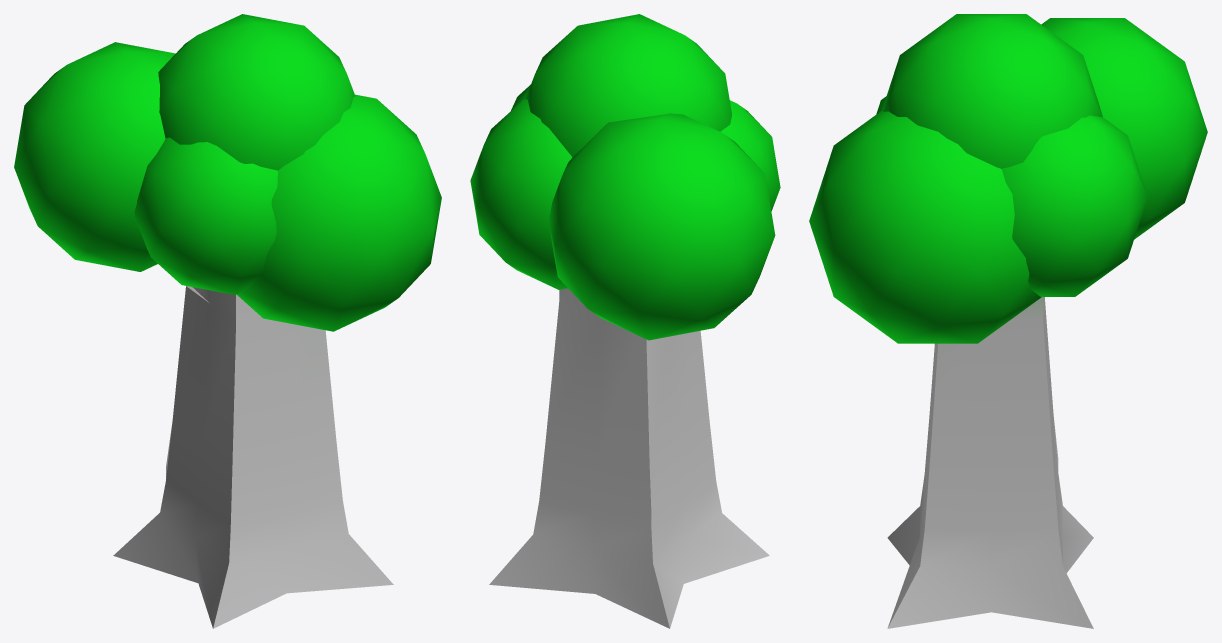
Rendered from Tree.fbx.
3 views of the same model, side by side, from view 1: azimuth 30°, elevation 25°; view 2: azimuth 150°, elevation 25°; view 3: azimuth 270°, elevation 25° (orthographic). The views are drawn at different scales.
Parts seen in each view (by area): view 1: Icosphere.001; view 2: Icosphere.001; view 3: Icosphere.001.
Boxes of the visible parts, x1,y1,x2,y2 form: Icosphere.001: (14,14,441,628); Icosphere.001: (470,14,780,628); Icosphere.001: (809,14,1207,628).
Size of the model in its own units: 5.68 by 9.32 by 5.96.
